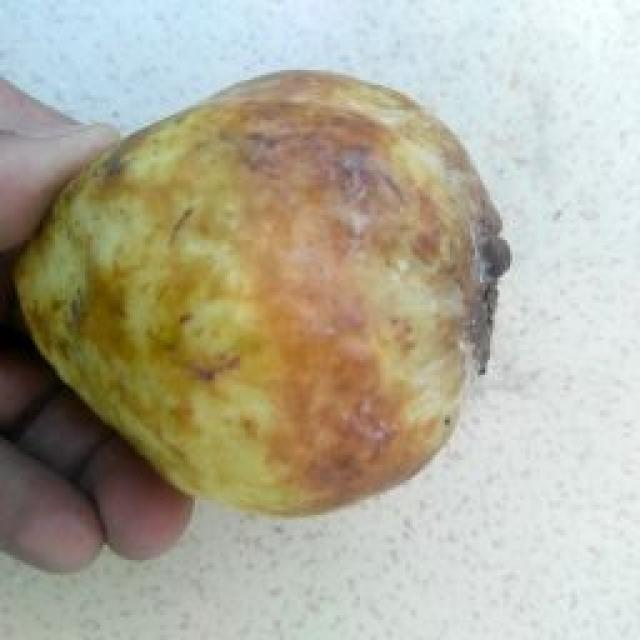Bad_Guava: (14, 71, 510, 514)
